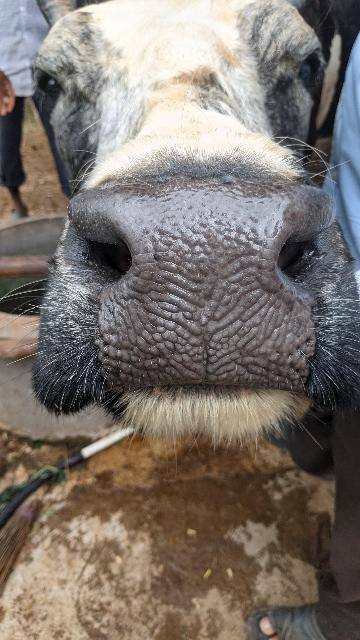Muzzle: (89, 185, 317, 379)
